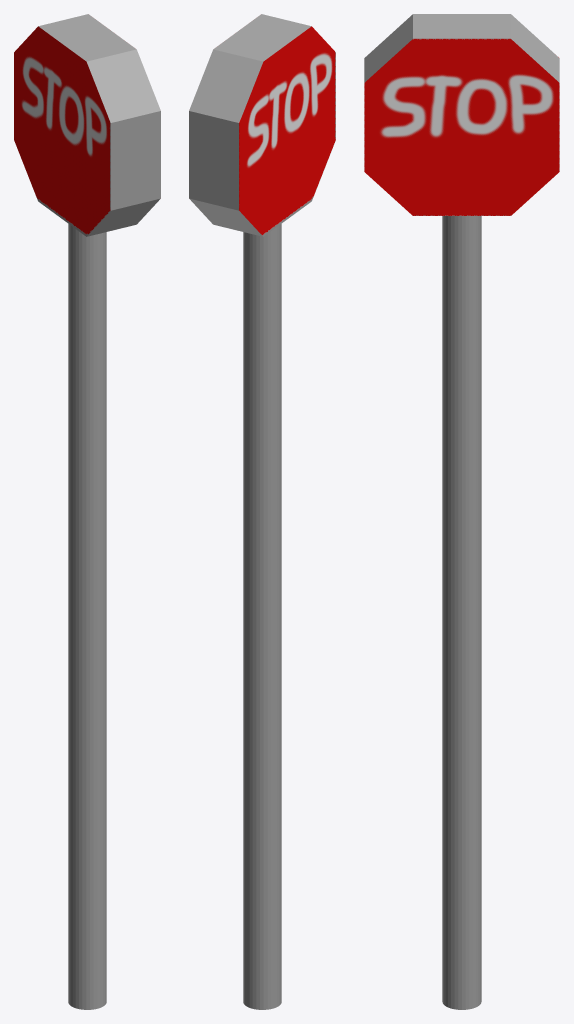
Rendered from Stop Sign.obj.
The picture shows the model from 3 angles, left to right: view 1: azimuth 30°, elevation 25°; view 2: azimuth 150°, elevation 25°; view 3: azimuth 270°, elevation 25°; orthographic projection.
Visible parts, largest first — view 1: Cylinder; view 2: Cylinder; view 3: Cylinder.
Boxes of the visible parts, bbox=[...] form: Cylinder: bbox=[14, 14, 160, 1009]; Cylinder: bbox=[189, 14, 335, 1009]; Cylinder: bbox=[364, 14, 559, 1009].
Bounding box in the file's own units: 0.6 × 11 × 2.
